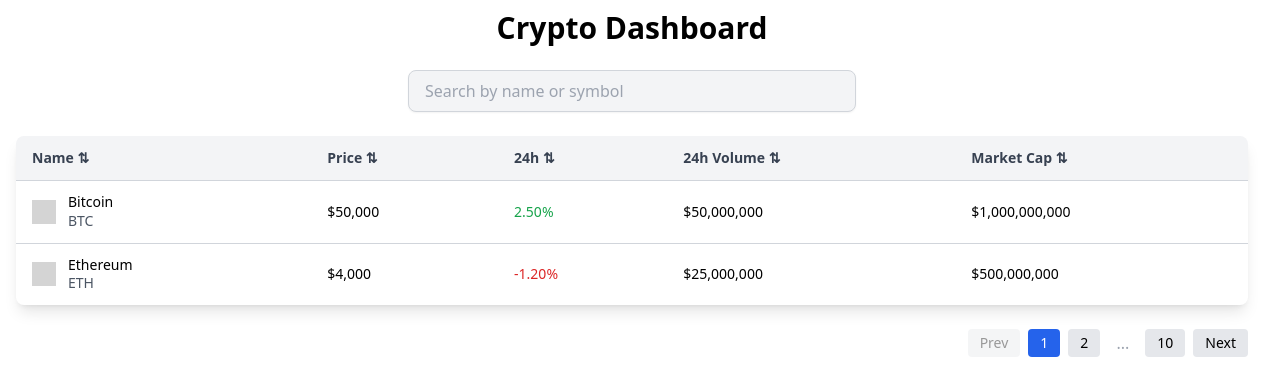
Test: Dashboard › filters coins by search input
Expected: the text "Bitcoin" is shown, [68, 193, 113, 210]
Type "bit" into the field with placeholder "Search by name or symbol" at (632, 91), box [408, 70, 856, 112]
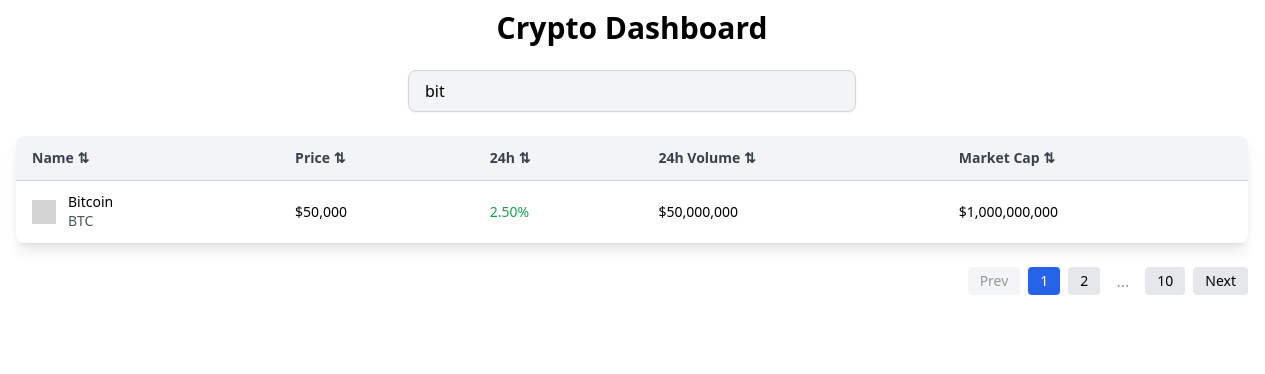
Expected: the text "Bitcoin" is shown, [68, 193, 113, 210]
Now the text "Ethereum" is gone
